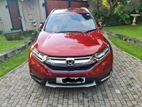car: (28, 7, 114, 89)
